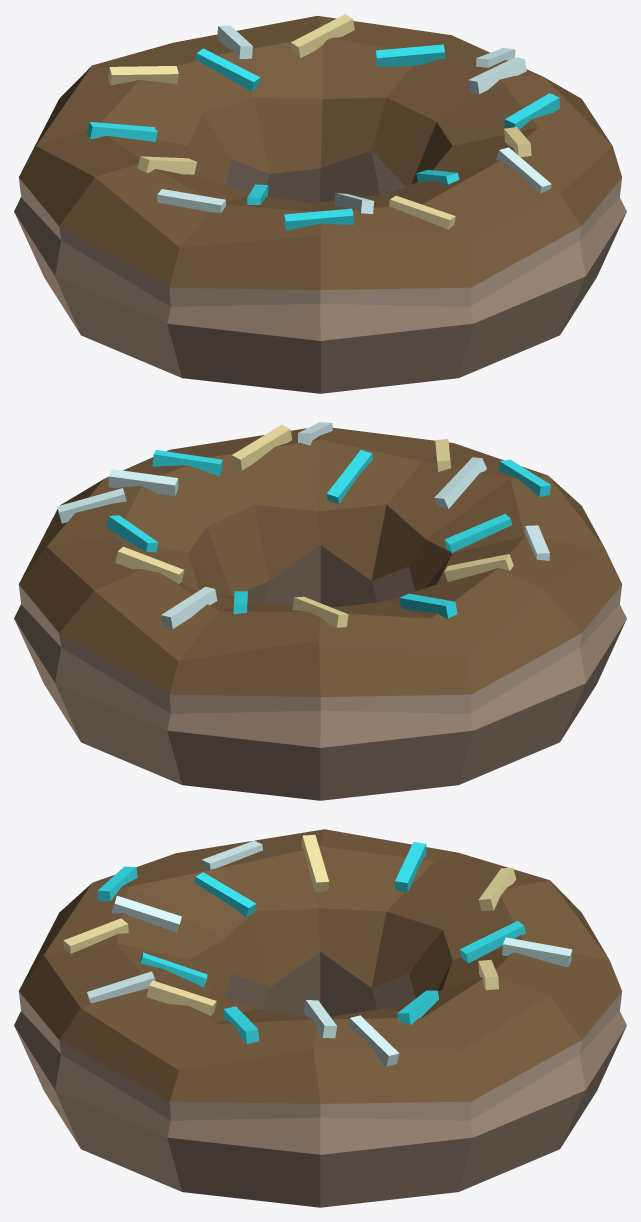
Rendered from SM_Prop_LargeSign_Donut_001.fbx.
3 views of the same model, one above another, from view 1: azimuth 30°, elevation 25°; view 2: azimuth 150°, elevation 25°; view 3: azimuth 270°, elevation 25° (orthographic).
Parts seen in each view (by area): view 1: SM_Prop_LargeSign_Donut_01, SM_Prop_LargeSign_Donut_01_1; view 2: SM_Prop_LargeSign_Donut_01, SM_Prop_LargeSign_Donut_01_1; view 3: SM_Prop_LargeSign_Donut_01, SM_Prop_LargeSign_Donut_01_1.
Part boxes in pixels (x1,y1,x2,y2): SM_Prop_LargeSign_Donut_01: [14, 15, 626, 393]; SM_Prop_LargeSign_Donut_01_1: [87, 14, 559, 230]; SM_Prop_LargeSign_Donut_01: [14, 427, 626, 800]; SM_Prop_LargeSign_Donut_01_1: [57, 422, 550, 628]; SM_Prop_LargeSign_Donut_01: [14, 829, 626, 1207]; SM_Prop_LargeSign_Donut_01_1: [63, 834, 572, 1066].
Size of the model in its own units: 3.82 by 1.35 by 3.82.
